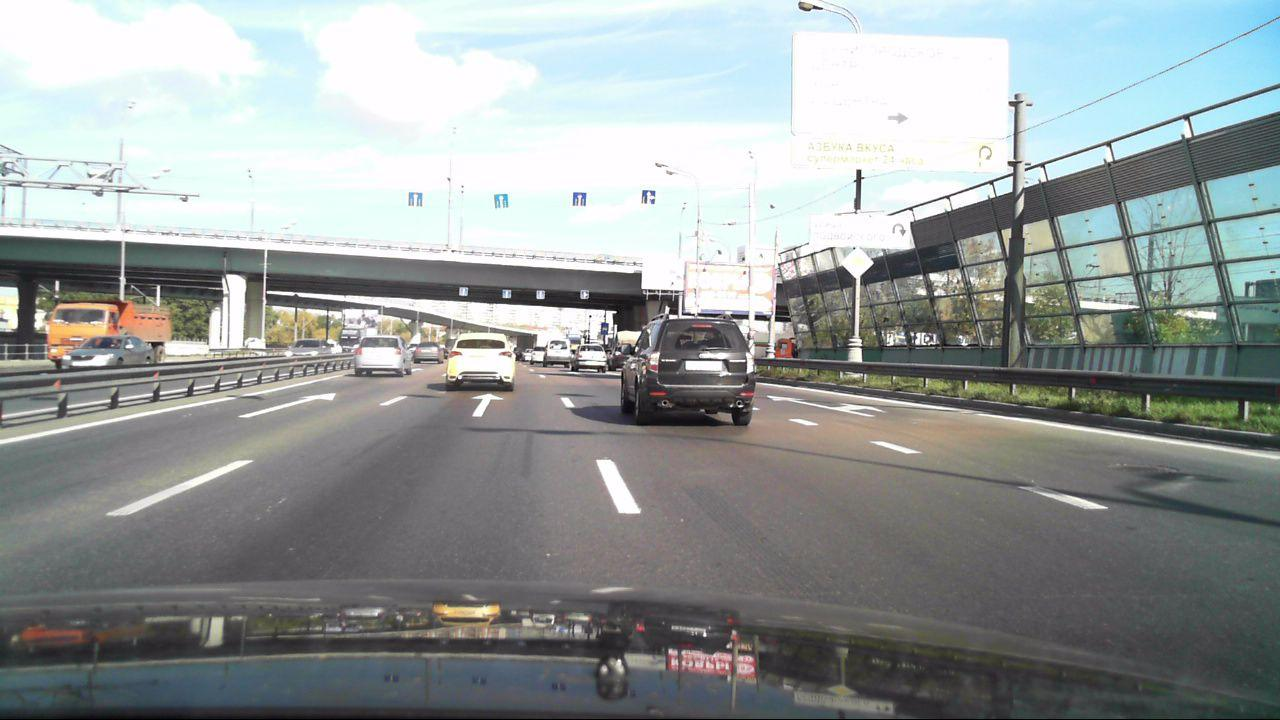2_1: (841, 247, 876, 280)
5_15_2: (494, 193, 510, 211), (641, 187, 657, 205), (573, 190, 588, 208), (408, 192, 424, 207), (536, 289, 546, 300), (579, 289, 590, 299), (503, 289, 513, 299), (460, 286, 469, 296)
6_10_1: (795, 31, 1006, 140), (809, 214, 909, 248)
